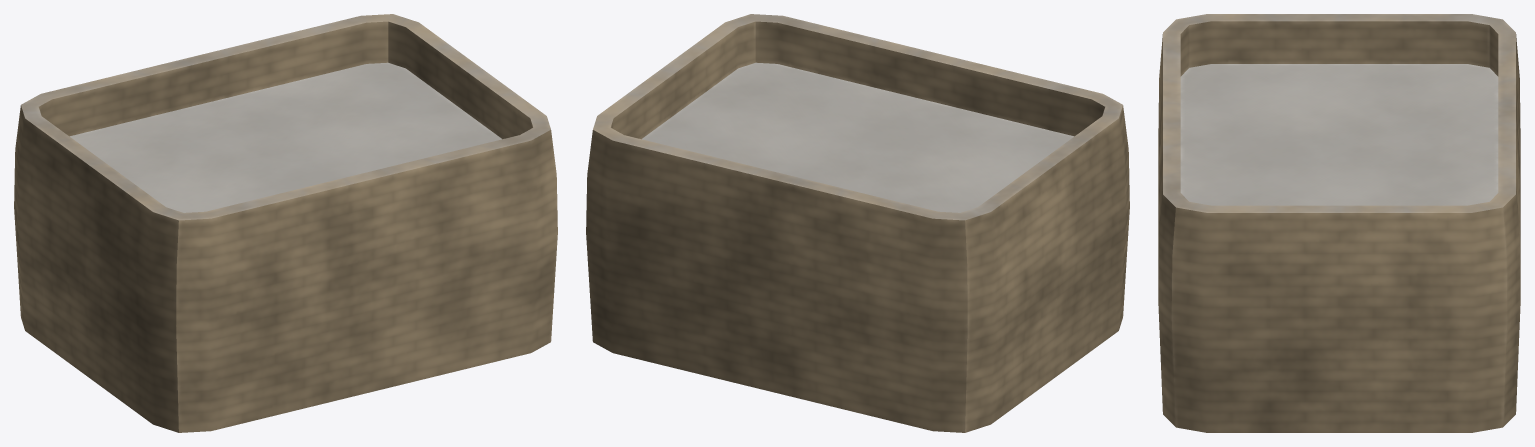
The model's file is Basket2.fbx.
3 renders of one model, left to right at view 1: azimuth 30°, elevation 25°; view 2: azimuth 150°, elevation 25°; view 3: azimuth 270°, elevation 25°, orthographic. The views are drawn at different scales.
Visible parts, largest first — view 1: basket 2; view 2: basket 2; view 3: basket 2.
Boxes of the visible parts, <box> form: basket 2: <box>14,14,557,432</box>; basket 2: <box>586,14,1129,432</box>; basket 2: <box>1158,14,1520,432</box>.
Size of the model in its own units: 0.3283 by 0.165 by 0.2462.
Materials: 1 (1 with a texture image).
